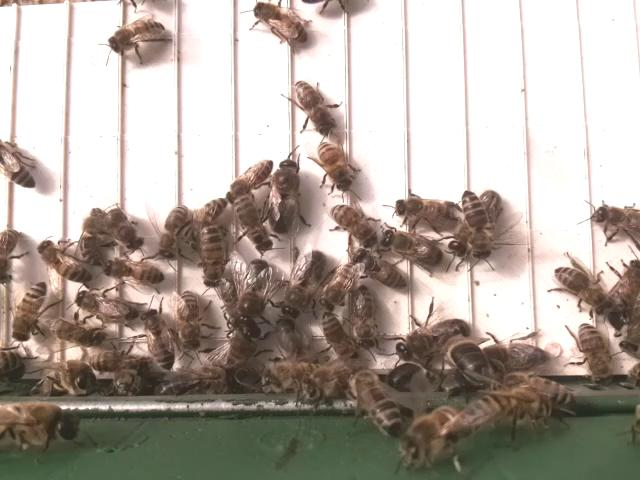Drone: (391, 314, 474, 365), (278, 248, 327, 322), (233, 255, 274, 335), (266, 157, 305, 237)
Worker: (380, 225, 448, 274), (548, 260, 609, 310), (292, 76, 337, 138), (250, 2, 312, 47), (37, 236, 93, 284), (352, 250, 410, 295), (138, 307, 178, 371), (104, 18, 169, 57), (460, 190, 494, 264), (393, 193, 462, 229), (10, 282, 49, 344), (574, 319, 611, 383), (316, 139, 358, 195), (72, 288, 137, 324), (329, 201, 379, 244), (199, 221, 229, 290), (100, 257, 166, 288), (175, 289, 206, 352), (158, 202, 190, 263)
